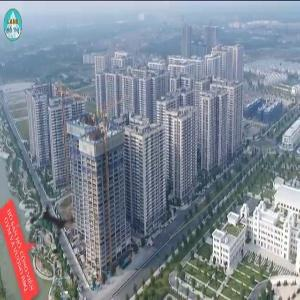drone: (2, 174, 102, 274)
